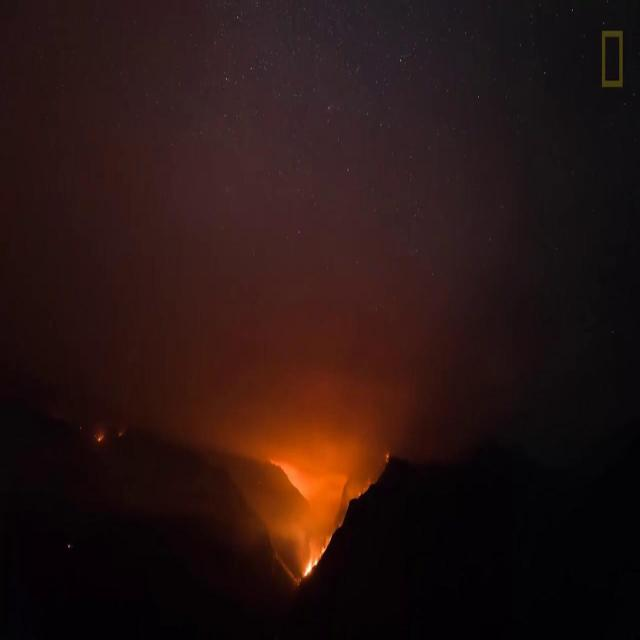Fire: (302, 534, 332, 580), (98, 429, 102, 444)
